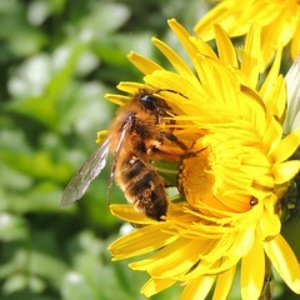bee: (72, 89, 184, 234)
